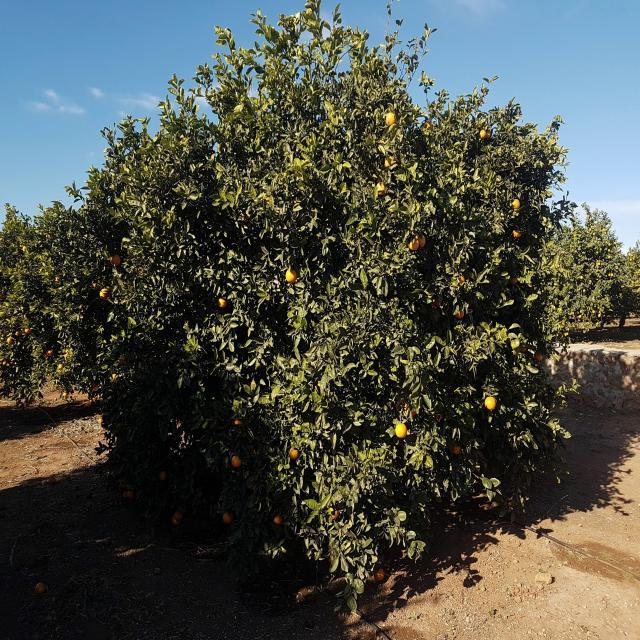Jeruk Sudah Matang: (386, 108, 398, 126), (395, 424, 410, 438), (285, 270, 297, 284), (485, 396, 496, 411), (376, 180, 388, 192), (34, 583, 46, 594), (288, 446, 299, 458), (300, 588, 312, 598), (223, 512, 234, 522), (455, 305, 465, 316), (457, 274, 468, 284), (100, 288, 109, 300), (232, 456, 242, 466), (272, 513, 282, 523), (218, 297, 228, 307), (110, 255, 120, 265), (173, 512, 183, 522), (478, 130, 488, 140), (376, 570, 386, 580), (402, 404, 412, 414), (410, 238, 419, 249), (511, 200, 520, 210), (453, 445, 462, 455), (160, 470, 168, 480), (120, 356, 130, 364), (125, 490, 134, 498), (234, 418, 242, 427), (270, 548, 279, 556), (512, 229, 520, 237), (110, 374, 118, 382), (331, 510, 338, 519), (92, 282, 98, 290), (46, 350, 52, 356), (7, 337, 12, 344), (93, 386, 98, 392), (58, 364, 64, 369), (24, 328, 30, 333), (63, 391, 67, 397), (70, 386, 73, 391)
